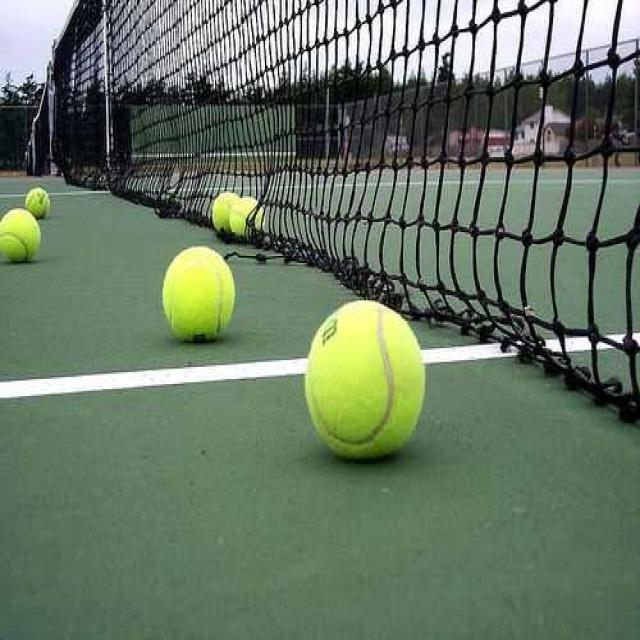Tennis_Ball: (307, 299, 424, 453), (162, 248, 232, 334), (0, 211, 41, 264), (235, 197, 265, 241), (213, 190, 232, 238), (23, 192, 51, 218)
